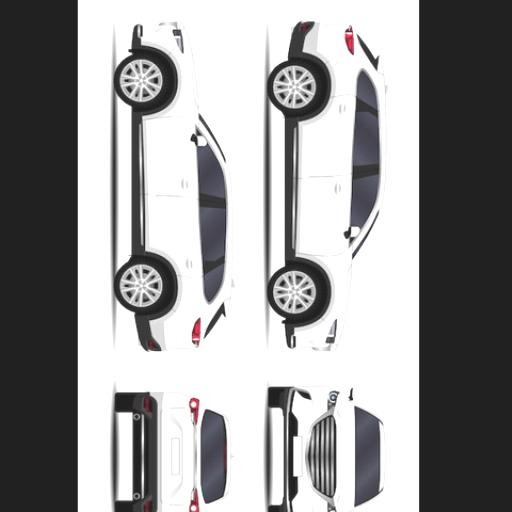suv: (115, 21, 230, 349), (269, 20, 384, 348), (269, 385, 384, 512), (115, 393, 231, 512)
